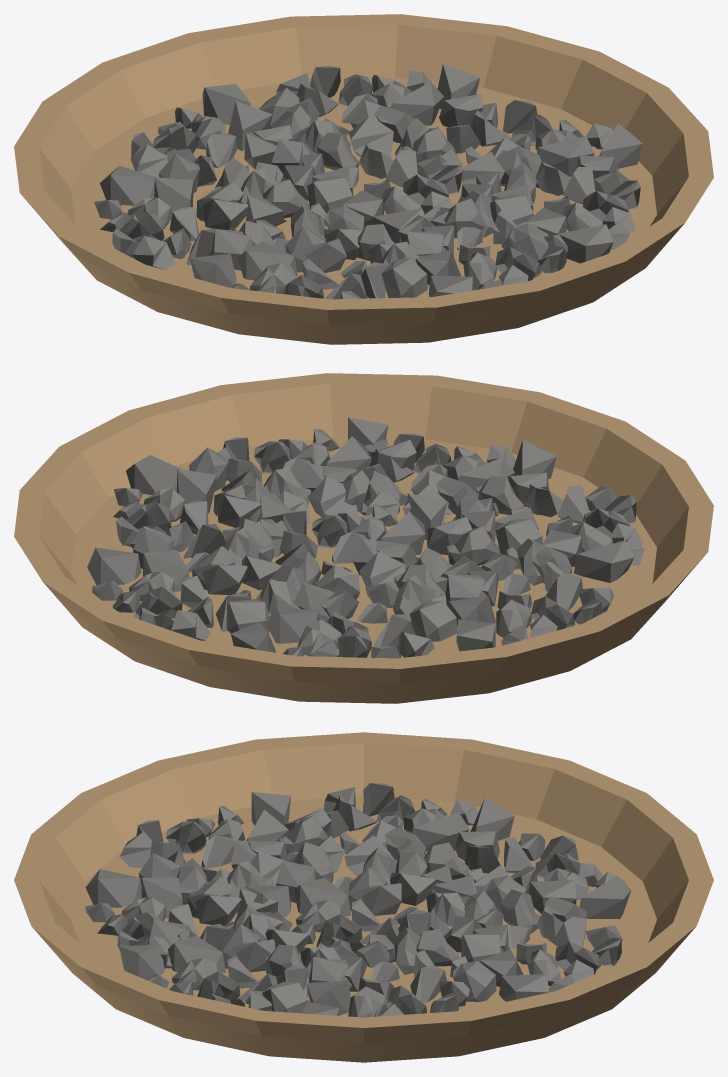
The model's file is Vessel_Slag.fbx.
3 views of the same model, one above another, from view 1: azimuth 30°, elevation 25°; view 2: azimuth 150°, elevation 25°; view 3: azimuth 270°, elevation 25° (orthographic).
Visible parts, largest first — view 1: Slag, Saucer; view 2: Slag, Saucer; view 3: Saucer, Slag.
Part boxes in pixels (x1,y1,x2,y2): Slag: (93,64,642,299); Saucer: (14,14,713,344); Slag: (87,417,644,658); Saucer: (14,373,713,703); Saucer: (14,732,713,1062); Slag: (85,783,631,1017).
Size of the model in its own units: 21.13 by 1.76 by 21.13.
